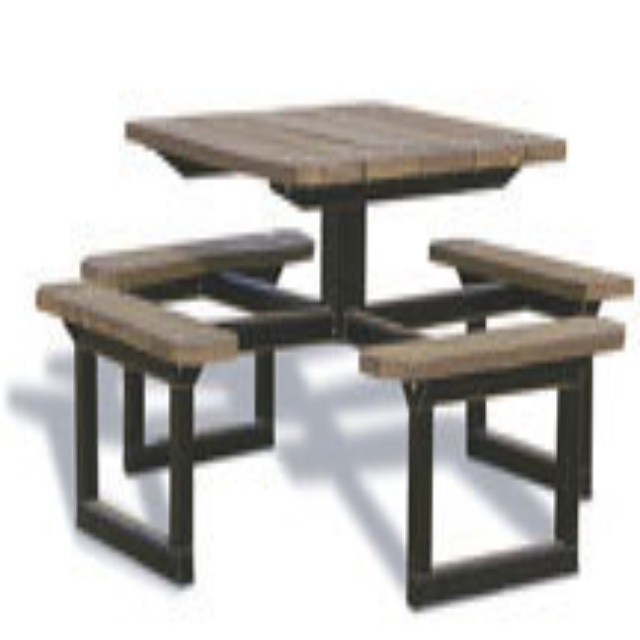obstacle: (33, 89, 634, 612)
